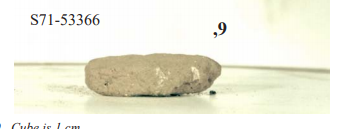Breccia: (81, 49, 237, 98)
